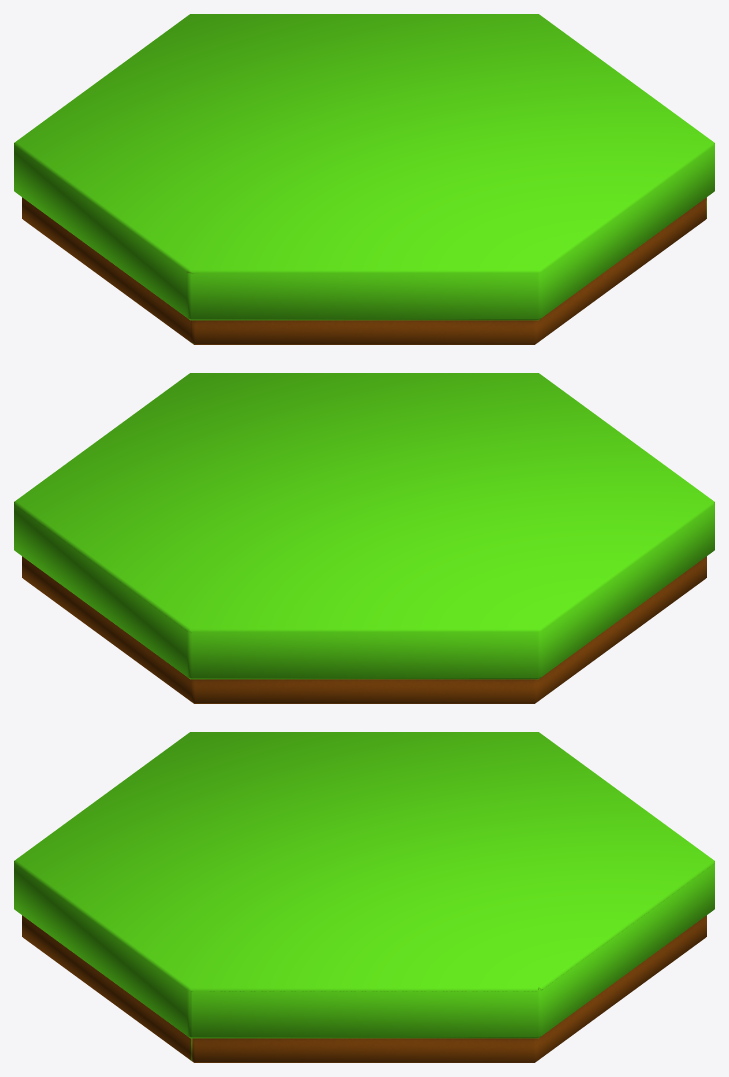
Rendered from BlocoTerreno.glb.
3 views of the same model, one above another, from view 1: azimuth 30°, elevation 25°; view 2: azimuth 150°, elevation 25°; view 3: azimuth 270°, elevation 25° (orthographic).
Parts seen in each view (by area): view 1: Terreno; view 2: Terreno; view 3: Terreno.
Part boxes in pixels (x1,y1,x2,y2): Terreno: [14, 14, 714, 344]; Terreno: [14, 373, 714, 703]; Terreno: [14, 732, 714, 1062].
Size of the model in its own units: 1.73 by 0.2468 by 1.99.
Materials: 2 (2 with a texture image).
